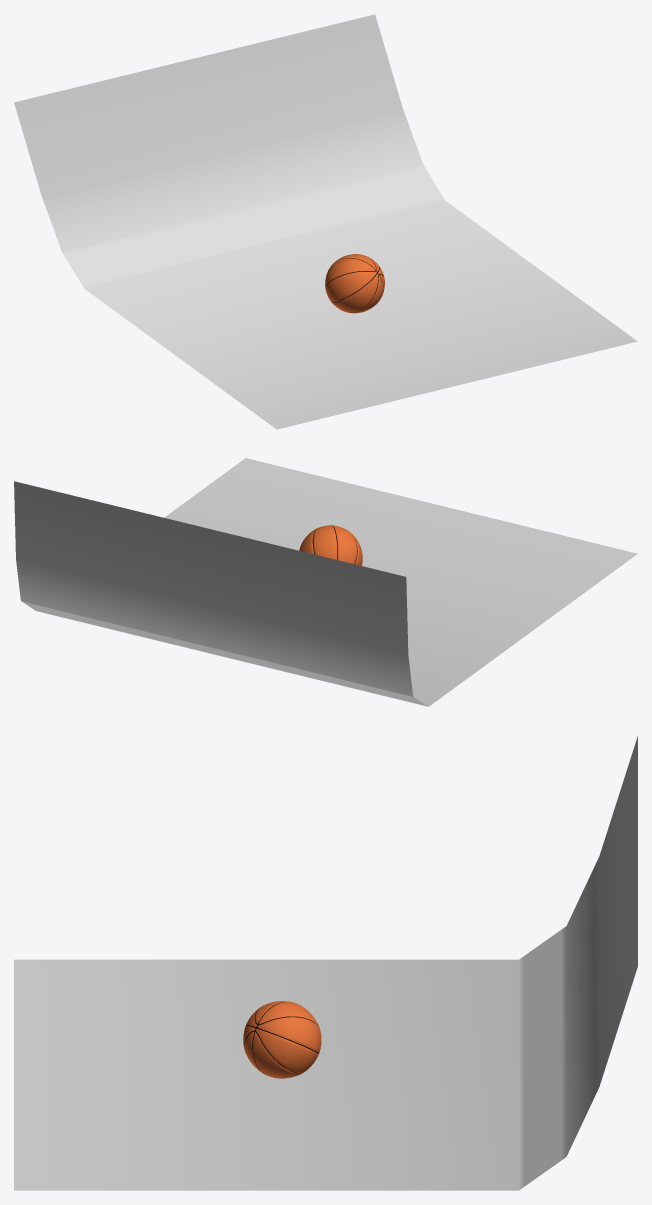
Rendered from Basketball.fbx.
The picture shows the model from 3 angles, top to bottom: view 1: azimuth 30°, elevation 25°; view 2: azimuth 150°, elevation 25°; view 3: azimuth 270°, elevation 25°; orthographic projection. The views are drawn at different scales.
Visible parts, largest first — view 1: Plane, Sphere; view 2: Plane, Sphere; view 3: Plane, Sphere.
Part boxes in pixels (x1,y1,x2,y2): Plane: (14, 14, 637, 429); Sphere: (325, 254, 384, 313); Plane: (14, 458, 637, 706); Sphere: (299, 525, 362, 565); Plane: (14, 736, 637, 1190); Sphere: (243, 1001, 321, 1078).
Bounding box in the file's own units: 348 × 137 × 371.
